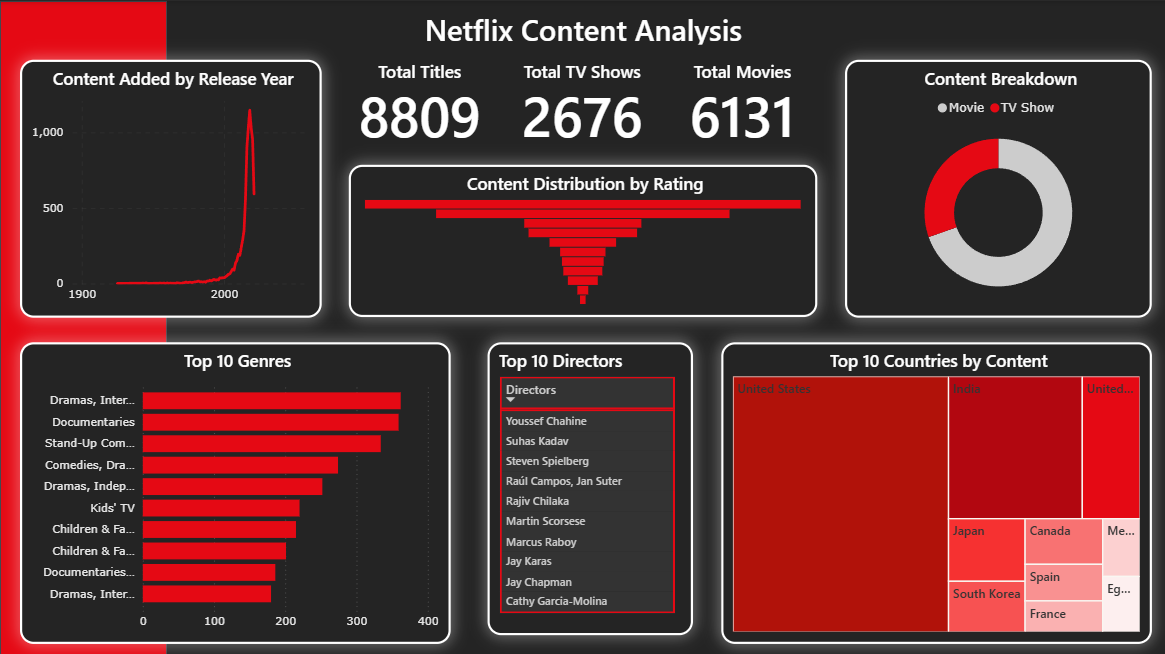

What the dashboard file says about the page in this screenshot:
{"tool":"powerbi","page":{"name":"Overview Dashboard","canvas":[1280,720],"ordinal":1},"visuals":[{"type":"shape","box":[0,0,183.3,720],"z":0},{"type":"card","title":"Total Titles","fields":{"Values":["netflix_titles.show_id"]},"box":[382.9,64.3,155.7,92.9],"z":2000},{"type":"card","title":"Total Movies","fields":{"Values":["netflix_titles.Total Movies"]},"box":[732.9,64.3,164.3,92.9],"z":3000},{"type":"card","title":"Total TV Shows","fields":{"Values":["netflix_titles.Total TV Shows"]},"box":[561.4,64.3,155.7,92.9],"z":4000},{"type":"donutChart","title":"Content Breakdown","fields":{"Y":["netflix_titles.show_id"],"Category":["netflix_titles.type"]},"box":[927.1,64.3,337.1,282.9],"z":5000},{"type":"barChart","title":"Top 10 Genres","fields":{"Category":["netflix_titles.listed_in"],"Y":["netflix_titles.show_id"]},"box":[21.4,374.3,472.9,331.4],"z":6000},{"type":"textbox","title":"Netflix Content Analysis","box":[445.7,10,388.6,38.6],"z":7000},{"type":"lineChart","title":"Content Added by Release Year","fields":{"Y":["netflix_titles.show_id"],"Category":["netflix_titles.release_year"]},"box":[21.4,64.3,331.4,282.9],"z":8000},{"type":"treemap","title":"Top 10 Countries by Content","fields":{"Group":["netflix_titles.country"],"Values":["netflix_titles.show_id"]},"box":[791.4,374.3,472.9,331.4],"z":9000},{"type":"funnel","title":"Content Distribution by Rating","fields":{"Category":["netflix_titles.rating"],"Y":["netflix_titles.show_id"]},"box":[382.9,180,514.3,167.1],"z":10000},{"type":"tableEx","title":"Top 10 Directors","fields":{"Values":["netflix_titles.director"]},"box":[535.7,374.3,225.7,321.4],"z":11000}]}

Visuals, with their boxes in screenshot pixels (x1, y1, x2, y2), scaled from the page's 1280x720 canvas onto the 1165x654 screenshot:
shape: {"left": 0, "top": 0, "right": 167, "bottom": 653}
"Total Titles" card: {"left": 348, "top": 58, "right": 490, "bottom": 143}
"Total Movies" card: {"left": 667, "top": 58, "right": 817, "bottom": 143}
"Total TV Shows" card: {"left": 511, "top": 58, "right": 653, "bottom": 143}
"Content Breakdown" donutChart: {"left": 844, "top": 58, "right": 1151, "bottom": 315}
"Top 10 Genres" barChart: {"left": 19, "top": 340, "right": 450, "bottom": 641}
"Netflix Content Analysis" textbox: {"left": 406, "top": 9, "right": 759, "bottom": 44}
"Content Added by Release Year" lineChart: {"left": 19, "top": 58, "right": 321, "bottom": 315}
"Top 10 Countries by Content" treemap: {"left": 720, "top": 340, "right": 1151, "bottom": 641}
"Content Distribution by Rating" funnel: {"left": 348, "top": 164, "right": 817, "bottom": 315}
"Top 10 Directors" tableEx: {"left": 488, "top": 340, "right": 693, "bottom": 632}
